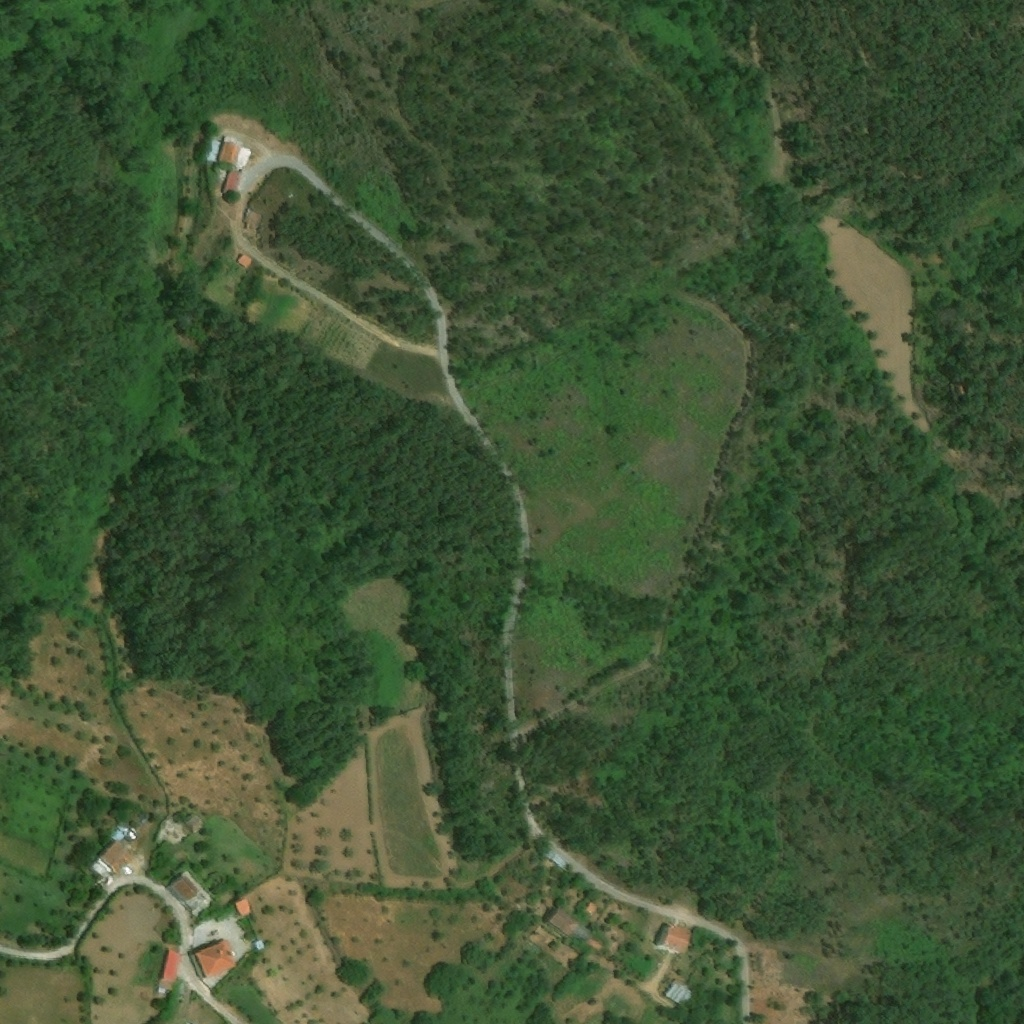0 no-damage: (191, 937, 237, 982), (167, 870, 201, 906), (97, 841, 134, 874), (657, 924, 692, 957), (664, 978, 698, 1010), (548, 908, 581, 938), (89, 858, 115, 891), (160, 948, 180, 986), (217, 137, 243, 166), (221, 172, 242, 199), (234, 895, 254, 919), (110, 821, 132, 841), (584, 900, 601, 916), (237, 254, 252, 268)
